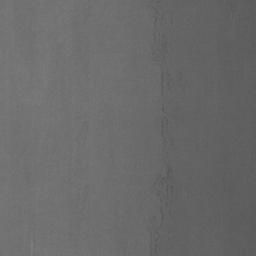Silk spot: (154, 164, 173, 199), (161, 70, 170, 96), (150, 238, 160, 256), (161, 117, 168, 137)
